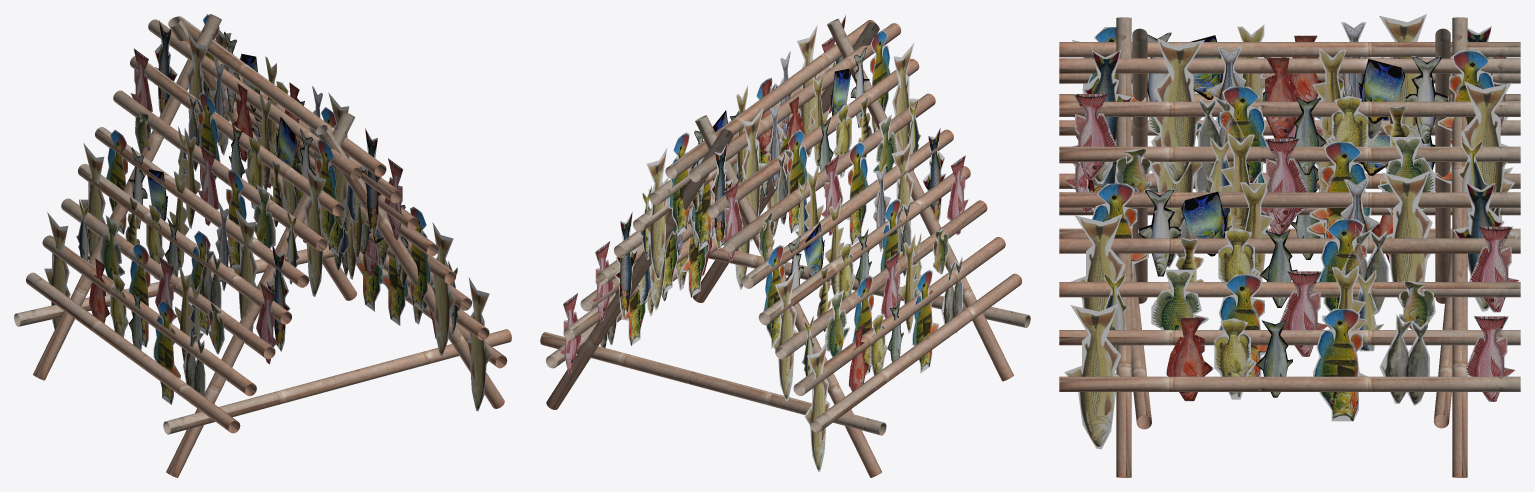
3 renders of one model, left to right at view 1: azimuth 30°, elevation 25°; view 2: azimuth 150°, elevation 25°; view 3: azimuth 270°, elevation 25°, orthographic. The views are drawn at different scales.
Visible parts, largest first — view 1: Bamboo Pole.030, Bamboo Pole.029, Bamboo Pole.043, Bamboo Pole.028, Bamboo Pole.031, Bamboo Pole.036, Bamboo Pole.044, Bamboo Pole.039, Bamboo Pole.027, Bamboo Pole.040, Bamboo Pole.026, Bamboo Pole.038 (+56 smaller); view 2: Bamboo Pole.041, Bamboo Pole.029, Bamboo Pole.042, Bamboo Pole.028, Bamboo Pole.031, Bamboo Pole.039, Bamboo Pole.027, Bamboo Pole.036, Bamboo Pole.040, Bamboo Pole.026, Bamboo Pole.043, Bamboo Pole.038 (+59 smaller); view 3: Bamboo Pole.032, Bamboo Pole.037, Bamboo Pole.025, Bamboo Pole.023, Bamboo Pole.035, Bamboo Pole.024, Bamboo Pole.034, Bamboo Pole.036, Bamboo Pole.033, Bamboo Pole.042, Fish 15.004, Bamboo Pole.044 (+66 smaller).
Part boxes in pixels (x1=…): Bamboo Pole.030: x1=163, y1=329, x2=511, y2=434; Bamboo Pole.029: x1=26, y1=272, x2=240, y2=433; Bamboo Pole.043: x1=33, y1=14, x2=221, y2=380; Bamboo Pole.028: x1=42, y1=235, x2=256, y2=396; Bamboo Pole.031: x1=166, y1=111, x2=354, y2=477; Bamboo Pole.036: x1=177, y1=16, x2=386, y2=176; Bamboo Pole.044: x1=315, y1=125, x2=504, y2=408; Bamboo Pole.039: x1=95, y1=127, x2=309, y2=287; Bamboo Pole.027: x1=78, y1=163, x2=291, y2=324; Bamboo Pole.040: x1=61, y1=198, x2=275, y2=359; Bamboo Pole.026: x1=113, y1=90, x2=327, y2=251; Bamboo Pole.038: x1=130, y1=56, x2=344, y2=216; Bamboo Pole.041: x1=540, y1=332, x2=886, y2=435; Bamboo Pole.029: x1=810, y1=273, x2=1021, y2=432; Bamboo Pole.042: x1=546, y1=129, x2=733, y2=409; Bamboo Pole.028: x1=793, y1=237, x2=1005, y2=395; Bamboo Pole.031: x1=827, y1=18, x2=1013, y2=381; Bamboo Pole.039: x1=741, y1=129, x2=953, y2=288; Bamboo Pole.027: x1=758, y1=166, x2=970, y2=325; Bamboo Pole.036: x1=665, y1=20, x2=876, y2=178; Bamboo Pole.040: x1=775, y1=200, x2=987, y2=359; Bamboo Pole.026: x1=723, y1=93, x2=935, y2=252; Bamboo Pole.043: x1=695, y1=115, x2=881, y2=477; Bamboo Pole.038: x1=707, y1=59, x2=919, y2=217; Bamboo Pole.032: x1=1059, y1=376, x2=1520, y2=391; Bamboo Pole.037: x1=1059, y1=42, x2=1520, y2=57; Bamboo Pole.025: x1=1059, y1=146, x2=1520, y2=161; Bamboo Pole.023: x1=1059, y1=282, x2=1520, y2=297; Bamboo Pole.035: x1=1059, y1=101, x2=1520, y2=116; Bamboo Pole.024: x1=1059, y1=192, x2=1520, y2=207; Bamboo Pole.034: x1=1059, y1=238, x2=1520, y2=253; Bamboo Pole.036: x1=1059, y1=58, x2=1520, y2=73; Bamboo Pole.033: x1=1059, y1=330, x2=1520, y2=345; Bamboo Pole.042: x1=1452, y1=17, x2=1467, y2=477; Fish 15.004: x1=1064, y1=303, x2=1121, y2=449; Bamboo Pole.044: x1=1116, y1=17, x2=1131, y2=477.
Size of the model in its own units: 0.2806 by 0.2471 by 0.279.
18 materials, 18 textured.
